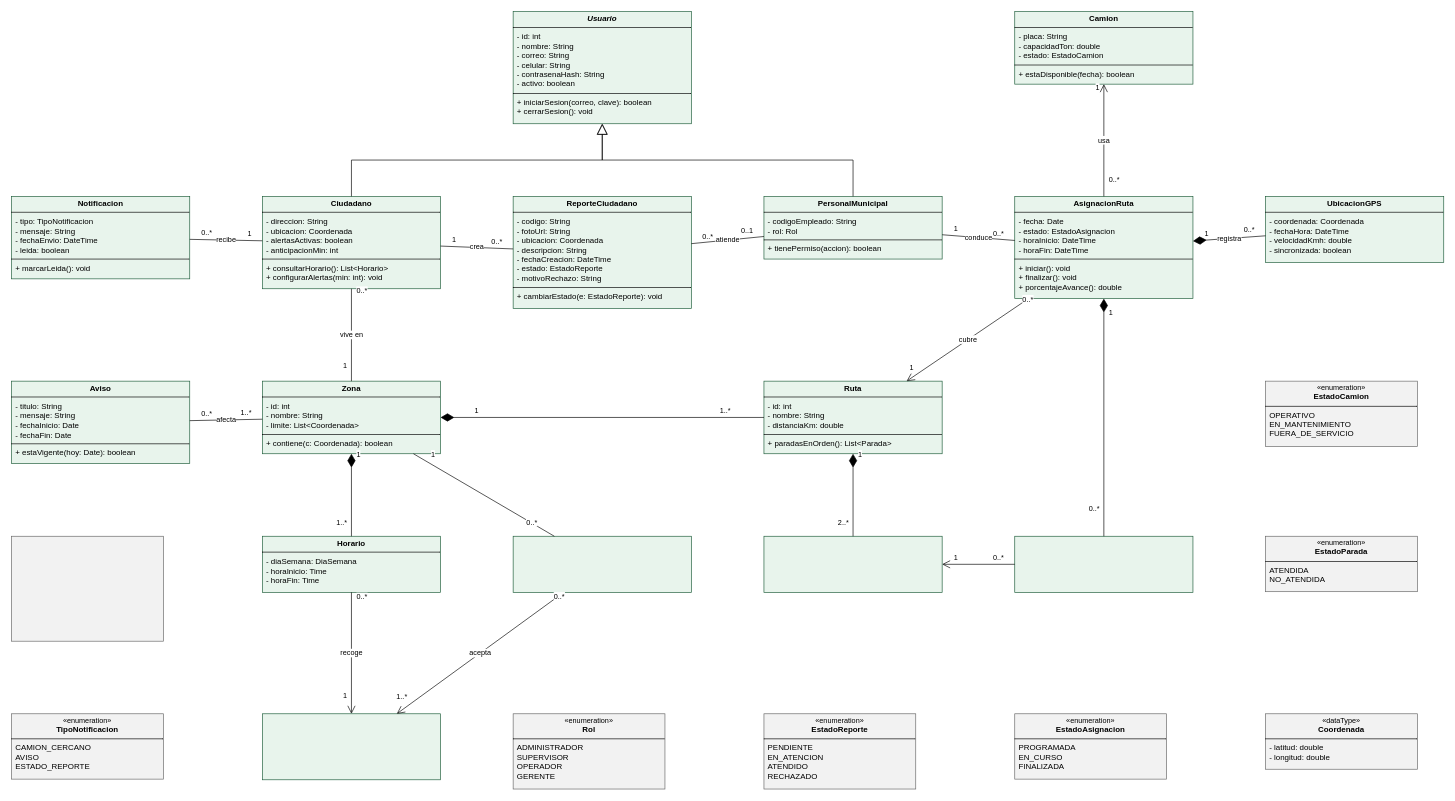
Some shapes in this 1455 by 801 pixel diagram are drawn without their labels. The box of each missing label's shape, as (x1, y1, x2, y2) in pixels:
Parada - orden: int - ubicacion: Coordenada - referencia: String: (763, 536, 942, 592)
PuntoReciclaje - nombre: String - ubicacion: Coordenada - diasAtencion: String: (512, 536, 691, 592)
RegistroParada - estado: EstadoParada - motivo: String - fechaHora: DateTime: (1014, 536, 1193, 592)
Residuo - id: int - nombre: String - descripcion: String - reciclable: boolean: (262, 713, 441, 780)
«enumeration» DiaSemana LUNES MARTES MIERCOLES JUEVES VIERNES SABADO DOMINGO: (11, 536, 163, 641)
